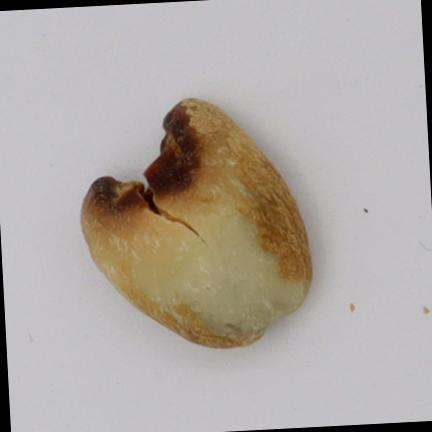cut: (81, 99, 312, 348)
